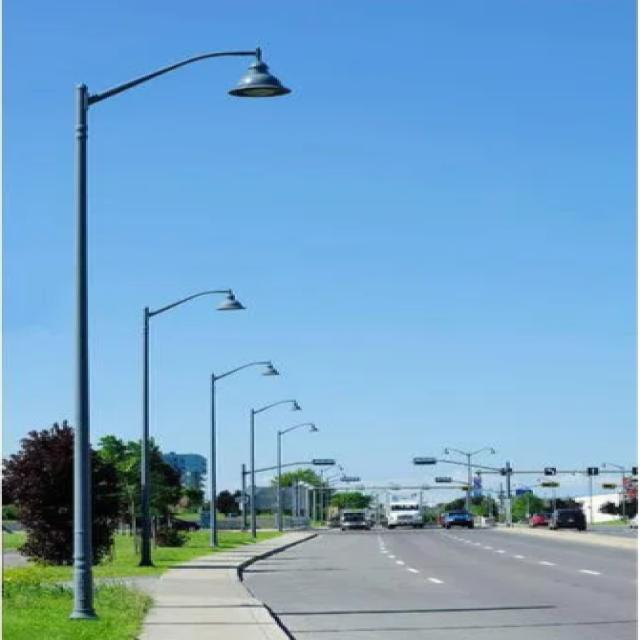Electric pole: (71, 48, 287, 620), (139, 291, 242, 567), (208, 362, 276, 548)
